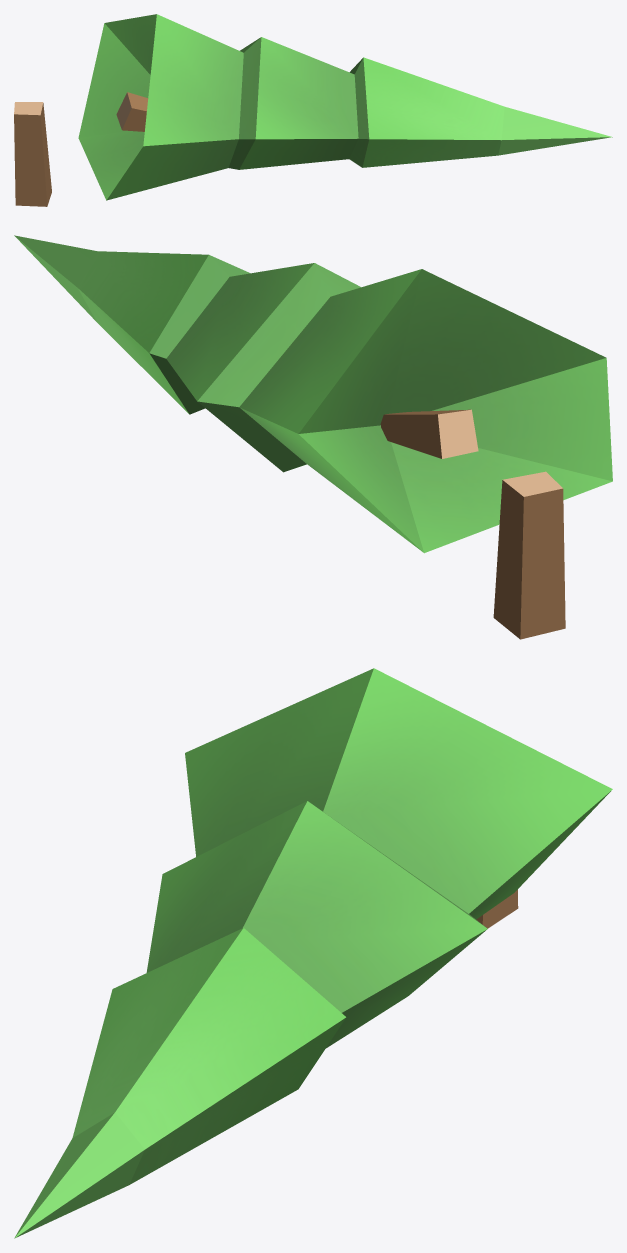
File: Fir_Tree_crk_s_02_LOD.fbx
The picture shows the model from 3 angles, top to bottom: view 1: azimuth 30°, elevation 25°; view 2: azimuth 150°, elevation 25°; view 3: azimuth 270°, elevation 25°; orthographic projection. The views are drawn at different scales.
Parts seen in each view (by area): view 1: Fir_Tree_crk_s_02_LOD0; view 2: Fir_Tree_crk_s_02_LOD0; view 3: Fir_Tree_crk_s_02_LOD0.
Part boxes in pixels (<box>): Fir_Tree_crk_s_02_LOD0: <box>14,14,612,206</box>; Fir_Tree_crk_s_02_LOD0: <box>14,235,612,639</box>; Fir_Tree_crk_s_02_LOD0: <box>14,668,612,1238</box>.
Size of what is drawn, in the model's own units: 248 by 90.84 by 149.
